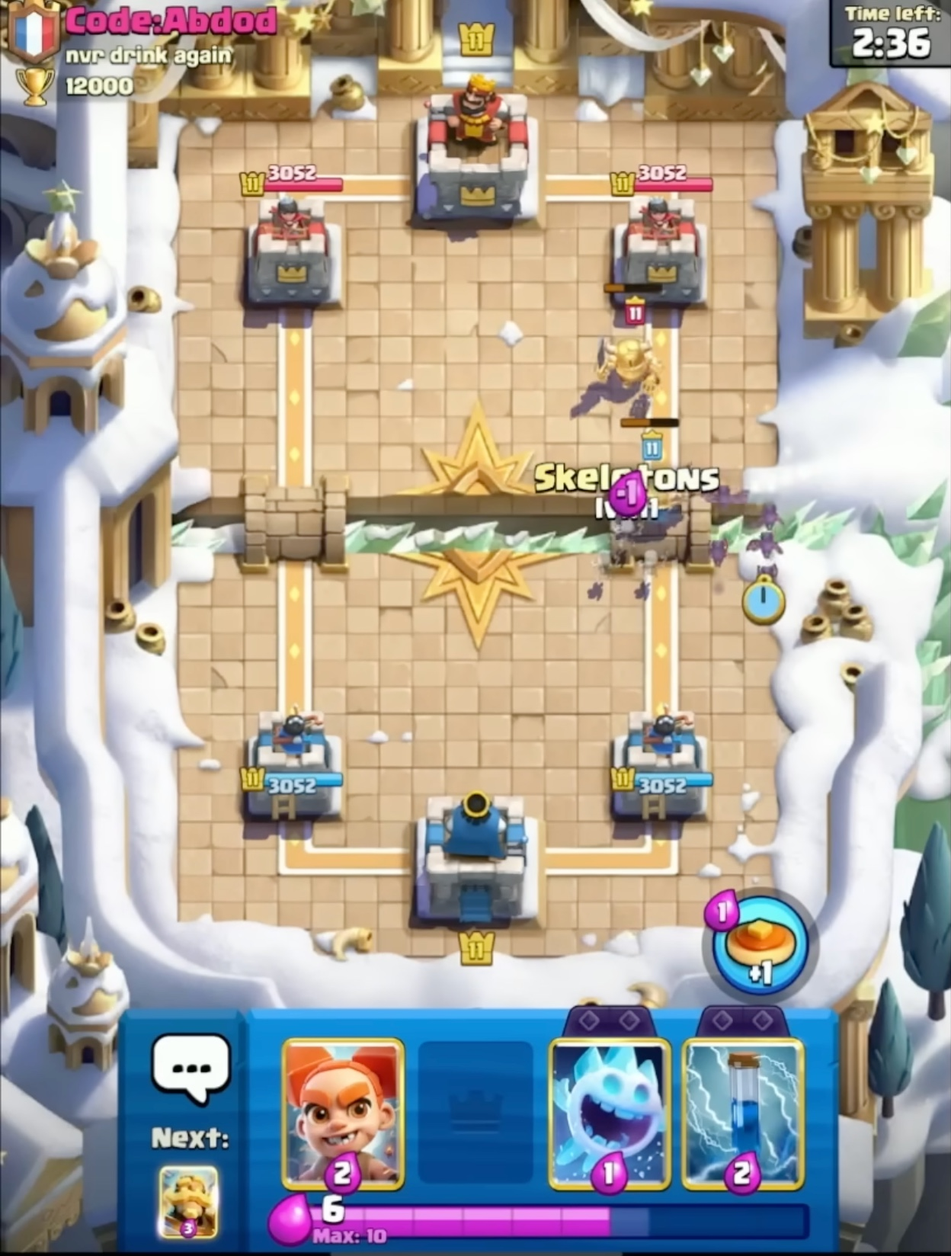hero-mini-pekka: (588, 274, 671, 409)
